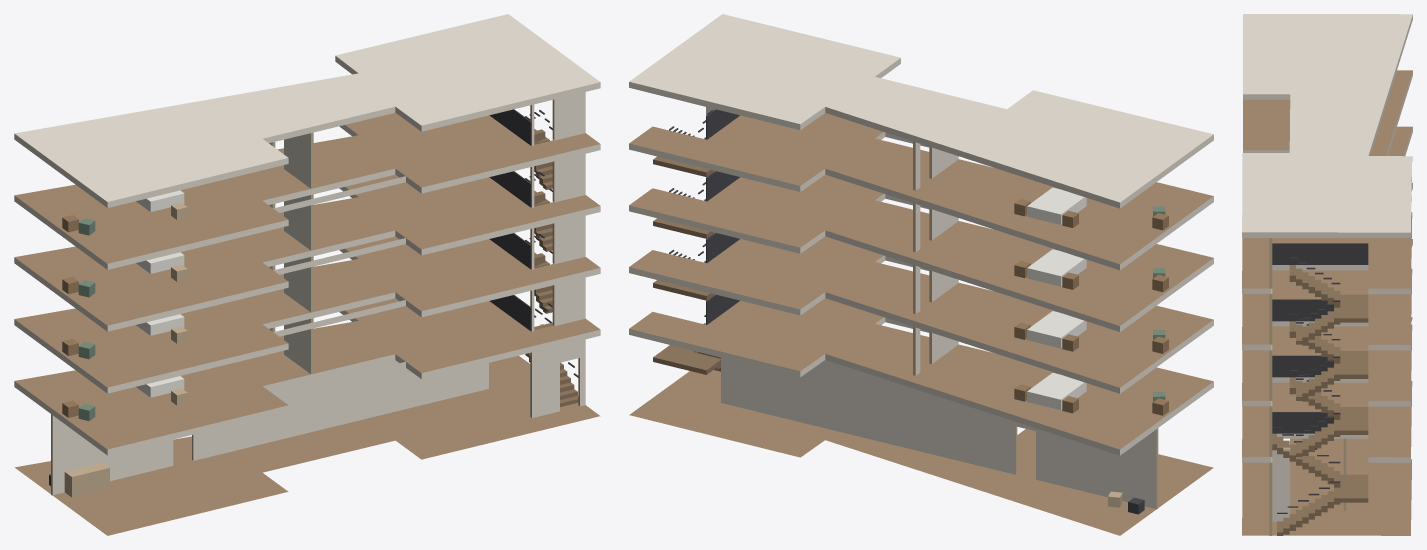
Rendered from interior.glb.
3 views of the same model, side by side, from view 1: azimuth 30°, elevation 25°; view 2: azimuth 150°, elevation 25°; view 3: azimuth 270°, elevation 25° (orthographic). The views are drawn at different scales.
Parts seen in each view (by area): view 1: slabs, partitions, stair, coarse-s2, coarse-s1, coarse-s4, coarse-s3, coarse-s0; view 2: slabs, partitions, stair, coarse-s1, coarse-s4, coarse-s2, coarse-s3; view 3: slabs, stair, partitions.
Boxes of the visible parts, <box> form: slabs: <box>14,14,600,535</box>; partitions: <box>51,92,585,495</box>; stair: <box>489,109,578,406</box>; coarse-s2: <box>62,314,187,359</box>; coarse-s1: <box>62,376,187,421</box>; coarse-s4: <box>62,190,187,235</box>; coarse-s3: <box>62,252,187,297</box>; coarse-s0: <box>49,462,109,497</box>; slabs: <box>629,14,1213,535</box>; partitions: <box>706,107,1158,509</box>; stair: <box>653,109,739,374</box>; coarse-s1: <box>1014,373,1168,415</box>; coarse-s4: <box>1014,187,1168,230</box>; coarse-s2: <box>1014,311,1168,353</box>; coarse-s3: <box>1014,249,1168,291</box>; slabs: <box>1242,14,1412,535</box>; stair: <box>1272,243,1368,535</box>; partitions: <box>1269,238,1346,535</box>.
Size of the model in its own units: 22.11 by 14.32 by 7.3.
